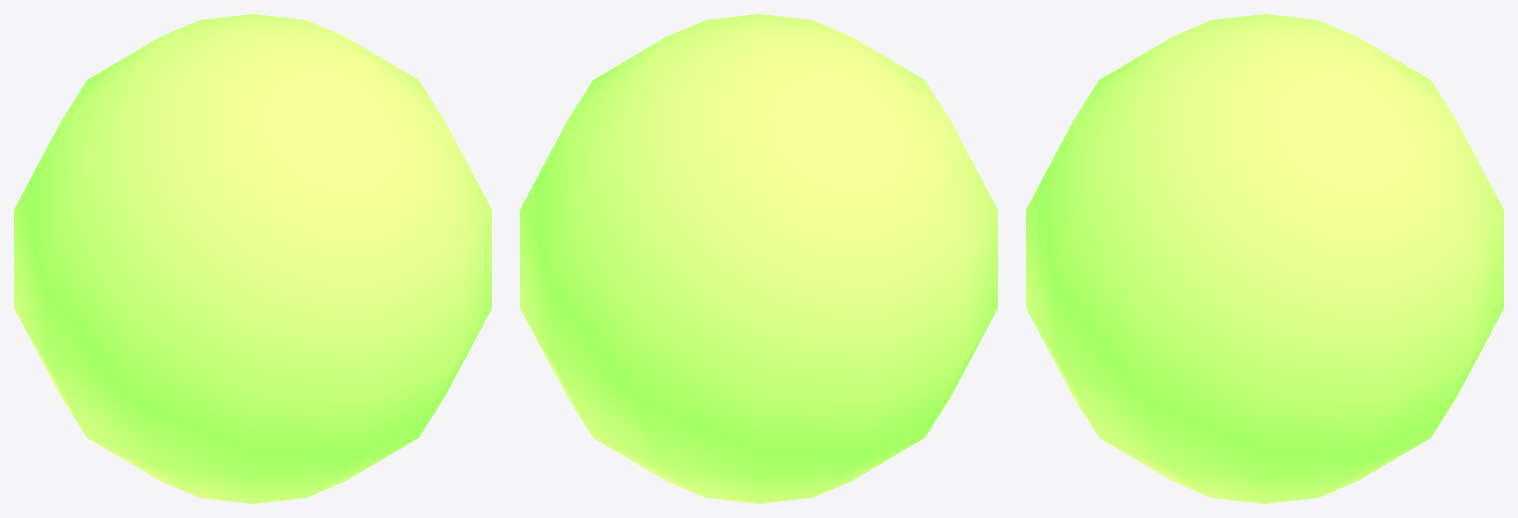
The model's file is spore_glob.glb.
3 views of the same model, side by side, from view 1: azimuth 30°, elevation 25°; view 2: azimuth 150°, elevation 25°; view 3: azimuth 270°, elevation 25° (orthographic).
Parts seen in each view (by area): view 1: Glob; view 2: Glob; view 3: Glob.
Part boxes in pixels (box(x1,y1,x2,y2)): Glob: box(14, 14, 491, 503); Glob: box(520, 14, 997, 503); Glob: box(1026, 14, 1503, 503).
Bounding box in the file's own units: 0.39 × 0.4 × 0.39.
